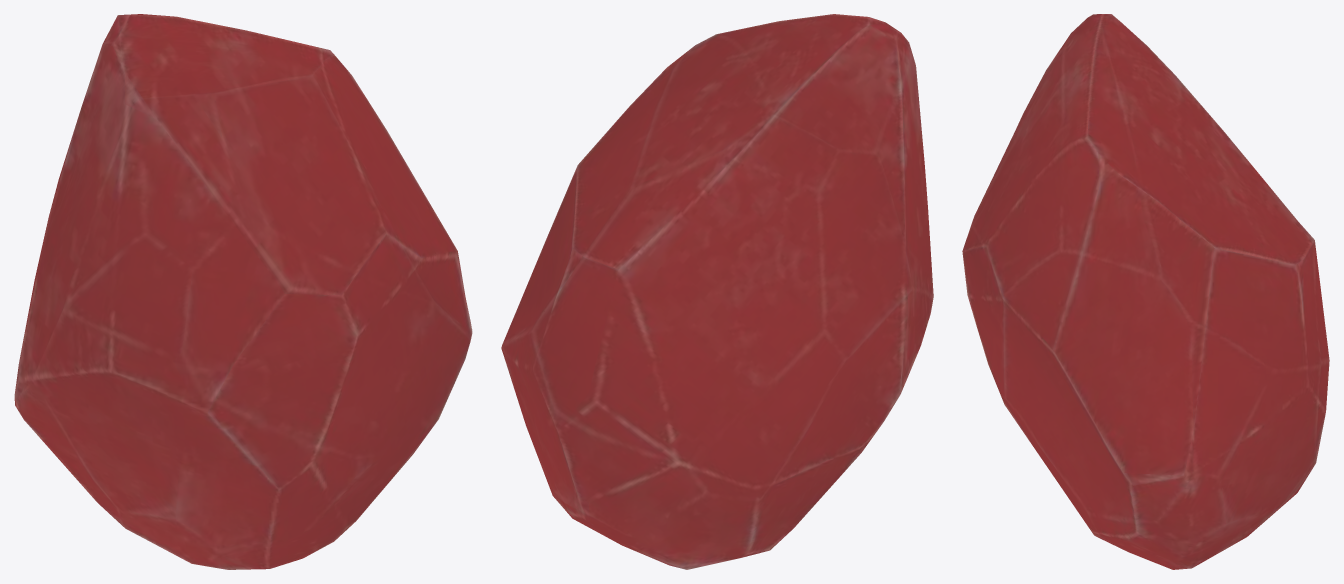
File: gem_red.glb
3 renders of one model, left to right at view 1: azimuth 30°, elevation 25°; view 2: azimuth 150°, elevation 25°; view 3: azimuth 270°, elevation 25°, orthographic. The views are drawn at different scales.
Parts seen in each view (by area): view 1: Retopo_gem_1_v2.001; view 2: Retopo_gem_1_v2.001; view 3: Retopo_gem_1_v2.001.
Boxes of the visible parts, bbox=[...] form: Retopo_gem_1_v2.001: bbox=[14, 14, 472, 569]; Retopo_gem_1_v2.001: bbox=[501, 14, 933, 569]; Retopo_gem_1_v2.001: bbox=[962, 14, 1329, 569].
Bounding box in the file's own units: 135 × 181 × 127.
1 material, 1 textured.
